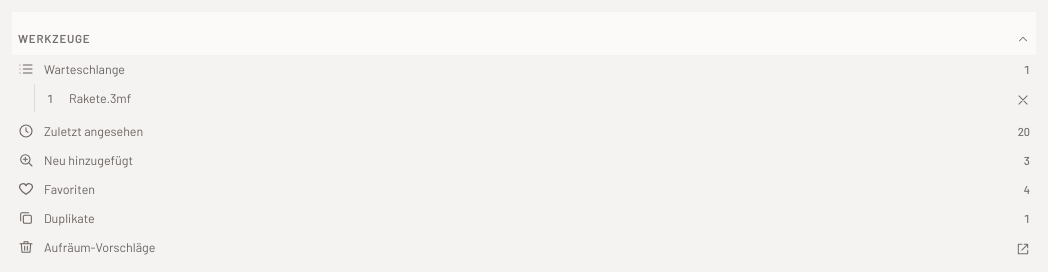
Test: ToolsSection › collapses the whole section via its heading
Click the button "Werkzeuge" at (54, 38), box [12,12,1036,55]
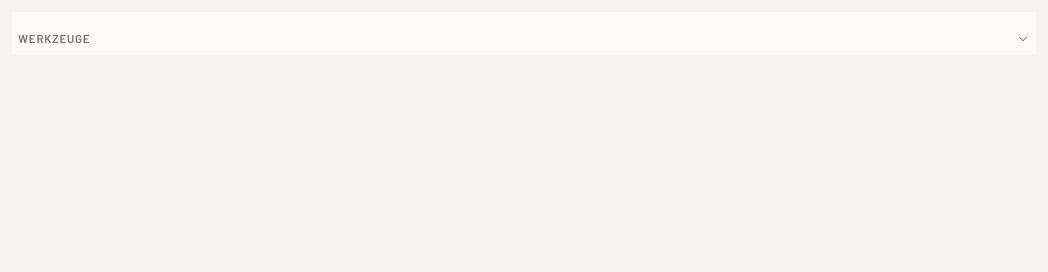
Check: the button "Duplikate" is gone
